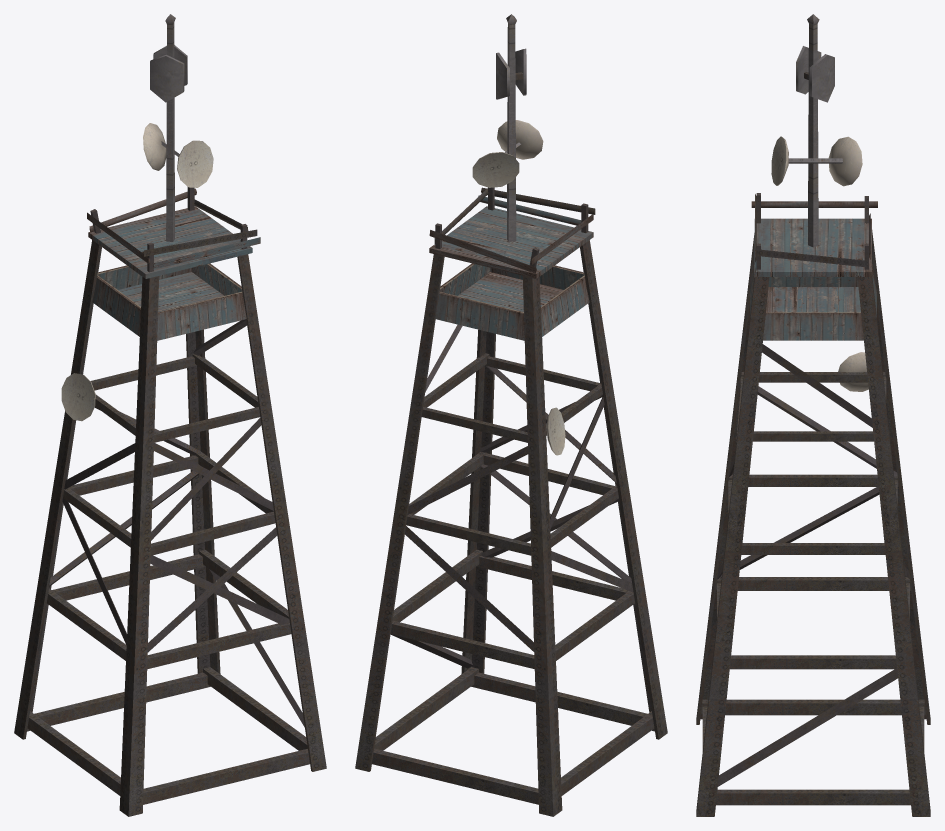
File: radio_tower.fbx
The picture shows the model from 3 angles, left to right: view 1: azimuth 30°, elevation 25°; view 2: azimuth 150°, elevation 25°; view 3: azimuth 270°, elevation 25°; orthographic projection. The views are drawn at different scales.
Parts seen in each view (by area): view 1: Cube_029_Cube_021; view 2: Cube_029_Cube_021; view 3: Cube_029_Cube_021.
Boxes of the visible parts, x1=… form: Cube_029_Cube_021: x1=14, y1=14, x2=326, y2=816; Cube_029_Cube_021: x1=355, y1=14, x2=667, y2=816; Cube_029_Cube_021: x1=696, y1=14, x2=930, y2=816.
Size of the model in its own units: 6.07 by 21.56 by 6.07.
